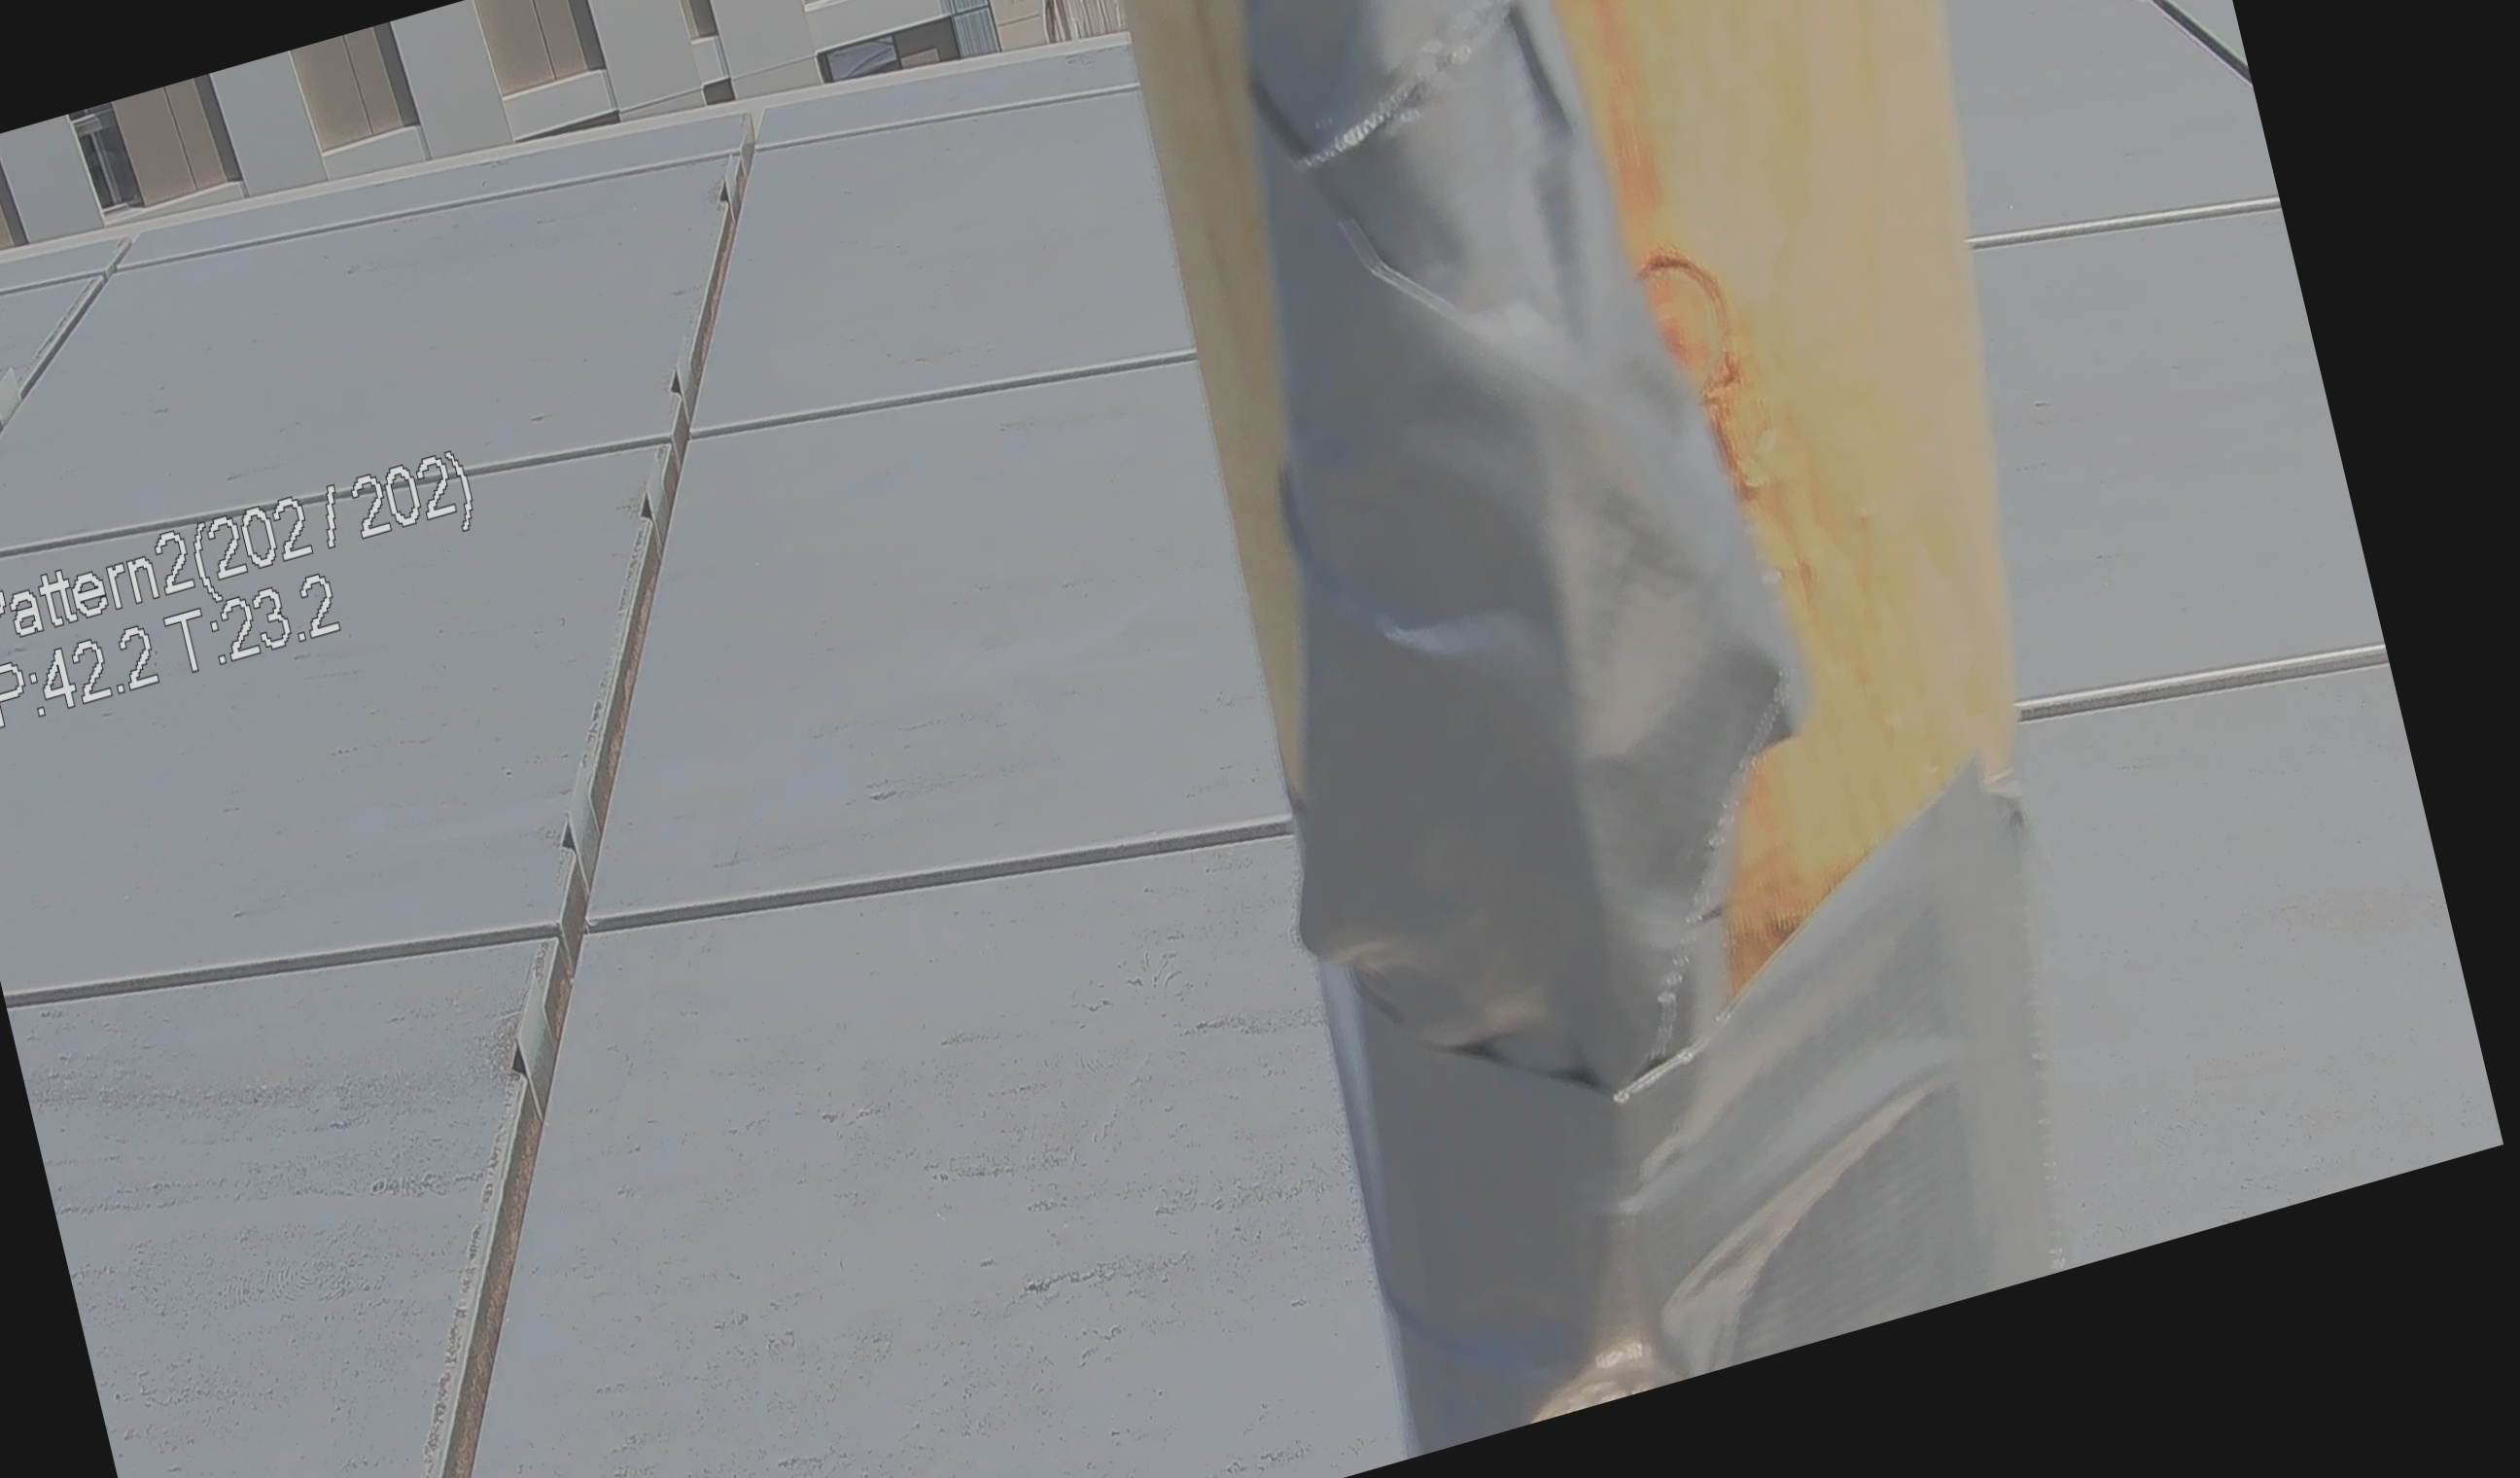Other: (1045, 0, 1970, 1263)
